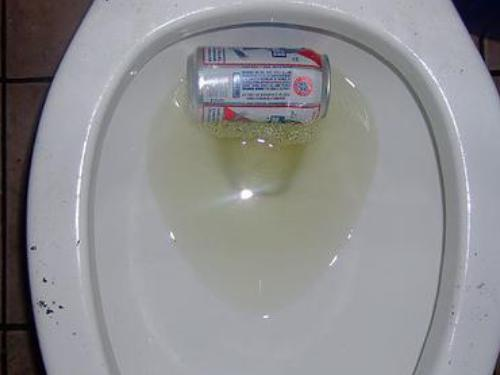Sanitario: (22, 0, 500, 375)
